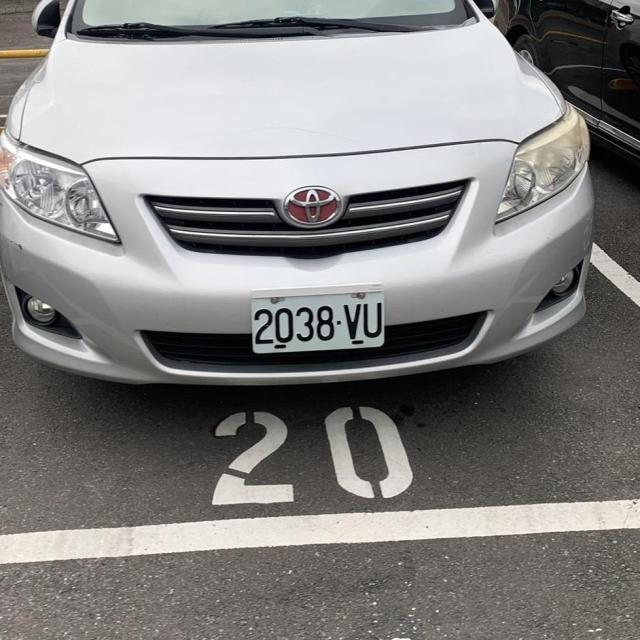W: (244, 282, 394, 357)
